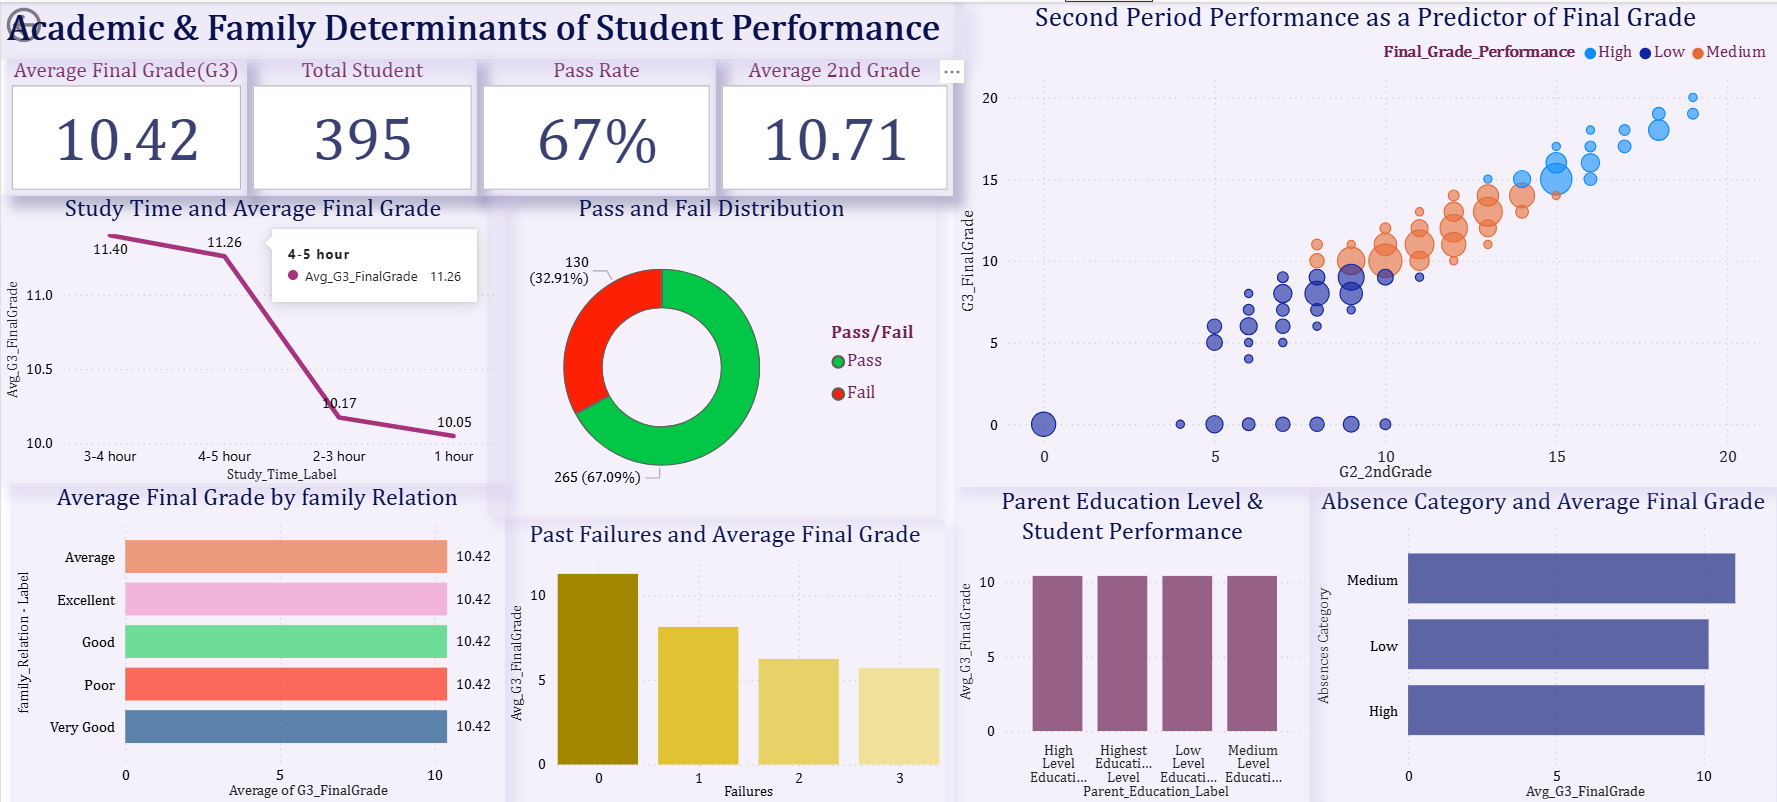

Layout of this report page (visuals, bound fields, positions):
{"tool":"powerbi","page":{"name":"Page 1","canvas":[1550,700],"ordinal":0},"visuals":[{"type":"cardVisual","title":"Average Final Grade(G3)","fields":{"Data":["Students.Avg_G3_FinalGrade"]},"box":[4.3,50,210,120],"z":0},{"type":"cardVisual","title":"Total Student","fields":{"Data":["Students.Total Students"]},"box":[214.3,50,201.4,120],"z":1000},{"type":"cardVisual","title":"Pass Rate","fields":{"Data":["Students.Pass_Rate"]},"box":[415.7,50,208.6,120],"z":2000},{"type":"clusteredColumnChart","title":"Past Failures and Average Final Grade","fields":{"Y":["Students.Avg_G3_FinalGrade"],"Category":["Students.Failures"]},"box":[4.3,170,388.6,252.9],"z":3000},{"type":"lineChart","title":"Study Time and Average Final Grade","fields":{"Category":["Students.Study_Time - Label"],"Y":["Students.Avg_G3_FinalGrade"]},"box":[392.9,172.9,438.6,250],"z":4000},{"type":"clusteredBarChart","title":"Absence Category and Average Final Grade","fields":{"Y":["Students.Avg_G3_FinalGrade"],"Category":["Students.Absences Category"]},"box":[1142.9,422.9,407.1,277.1],"z":5000},{"type":"cardVisual","title":"Average 2nd Grade  ","fields":{"Data":["Students.Avg_G2_2ndGrade"]},"box":[624.3,50,207.1,120],"z":6000},{"type":"actionButton","box":[0,0,100,40],"z":7000},{"type":"scatterChart","title":"Second Period Performance as a Predictor of Final Grade","fields":{"X":["Students.G2_2ndGrade"],"Y":["Students.G3_FinalGrade"],"Series":["Students.Final_Grade_Performance"],"Size":["CountNonNull(Students.StudentID)"]},"box":[831.4,0,718.6,422.9],"z":8000},{"type":"textbox","box":[0,0,841.4,50],"z":9000},{"type":"donutChart","title":"Pass and Fail Distribution","fields":{"Category":["Students.Pass/Fail"],"Y":["CountNonNull(Students.StudentID)"]},"box":[4.3,422.9,388.6,277.1],"z":10000},{"type":"clusteredBarChart","title":"Average Final Grade by family Relation ","fields":{"Category":["Family.family_Relation - Label"],"Y":["Avg(Students.G3_FinalGrade)"]},"box":[392.9,422.9,438.6,277.1],"z":11000},{"type":"clusteredColumnChart","title":"Parent Education Level & Student Performance","fields":{"Y":["Students.Avg_G3_FinalGrade"],"Category":["Family.Parent_Education_Label"]},"box":[831.4,422.9,311.4,277.1],"z":12000}]}

Visuals, with their boxes in screenshot pixels (x1, y1, x2, y2), scaled from the page's 1550x700 canvas onto the 1777x802 screenshot:
"Average Final Grade(G3)" cardVisual: detection(5, 57, 246, 195)
"Total Student" cardVisual: detection(246, 57, 477, 195)
"Pass Rate" cardVisual: detection(477, 57, 716, 195)
"Past Failures and Average Final Grade" clusteredColumnChart: detection(5, 195, 450, 485)
"Study Time and Average Final Grade" lineChart: detection(450, 198, 953, 485)
"Absence Category and Average Final Grade" clusteredBarChart: detection(1310, 485, 1776, 801)
"Average 2nd Grade  " cardVisual: detection(716, 57, 953, 195)
actionButton: detection(0, 0, 115, 46)
"Second Period Performance as a Predictor of Final Grade" scatterChart: detection(953, 0, 1776, 485)
textbox: detection(0, 0, 965, 57)
"Pass and Fail Distribution" donutChart: detection(5, 485, 450, 801)
"Average Final Grade by family Relation " clusteredBarChart: detection(450, 485, 953, 801)
"Parent Education Level & Student Performance" clusteredColumnChart: detection(953, 485, 1310, 801)
